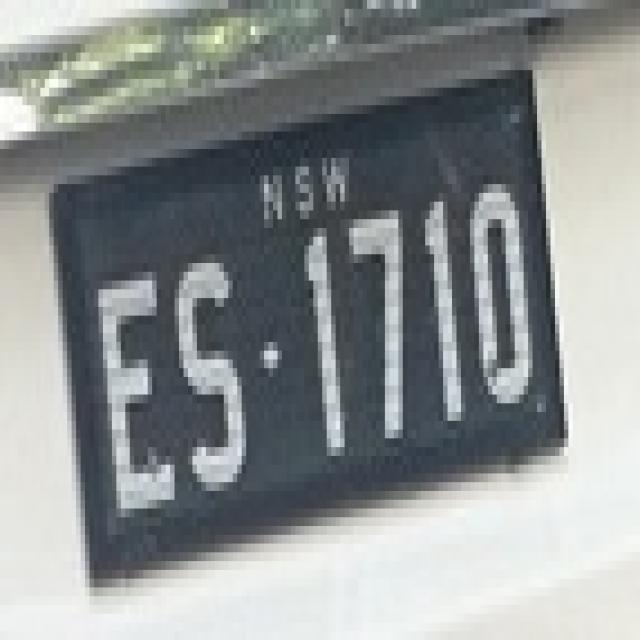LicensePlate: (38, 49, 579, 601)
